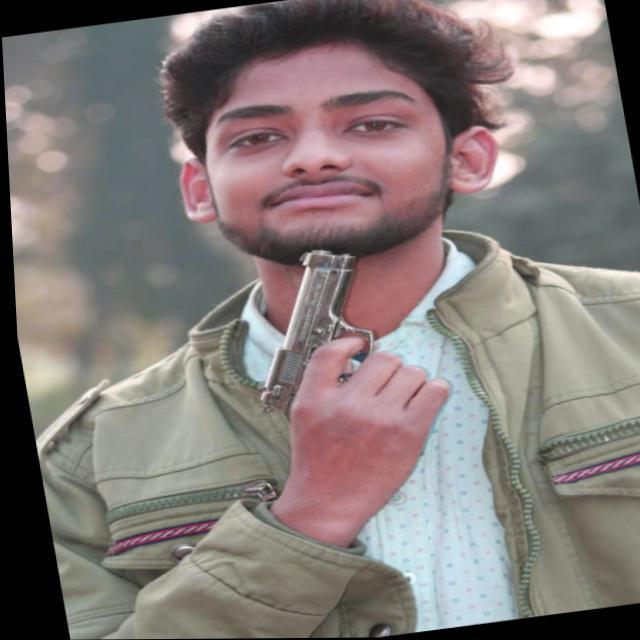weapon: (227, 234, 450, 443)
